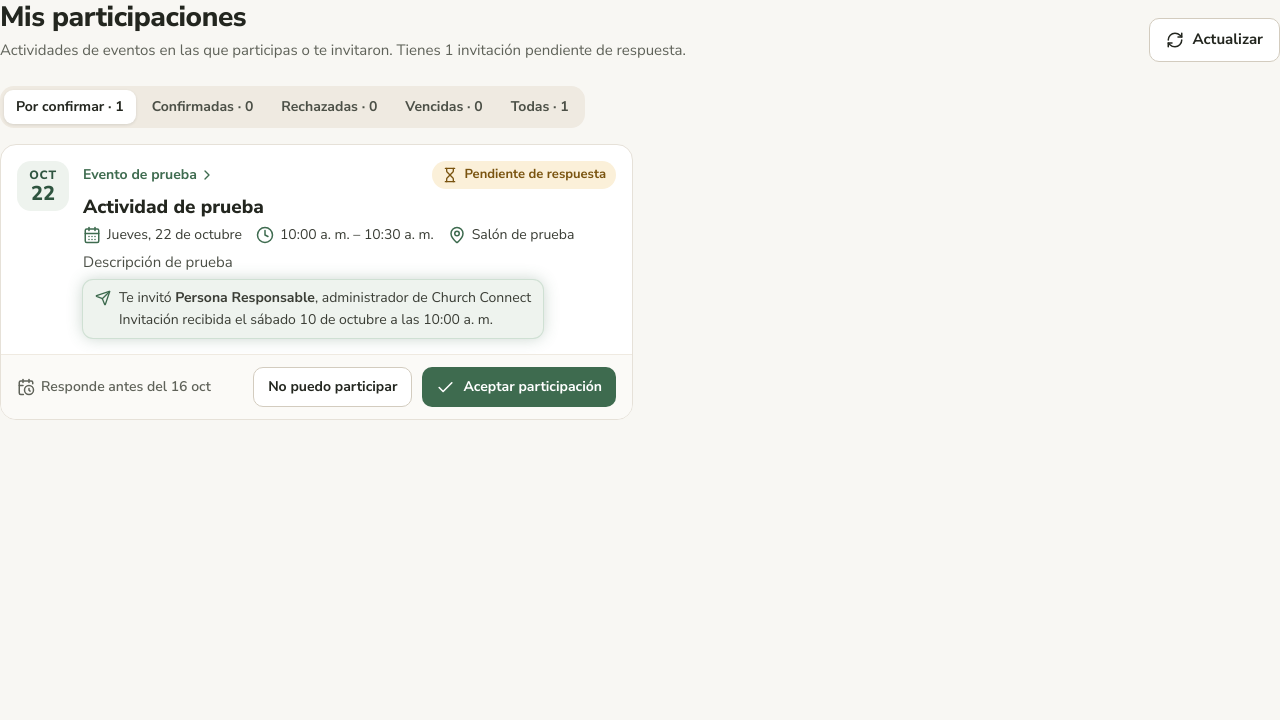
it: ParticipationsPage › el diálogo se cierra con Escape
The image size is (1280, 720).
Click the button with aria-label "Aceptar participación en": click(519, 387) [422,367,616,407]
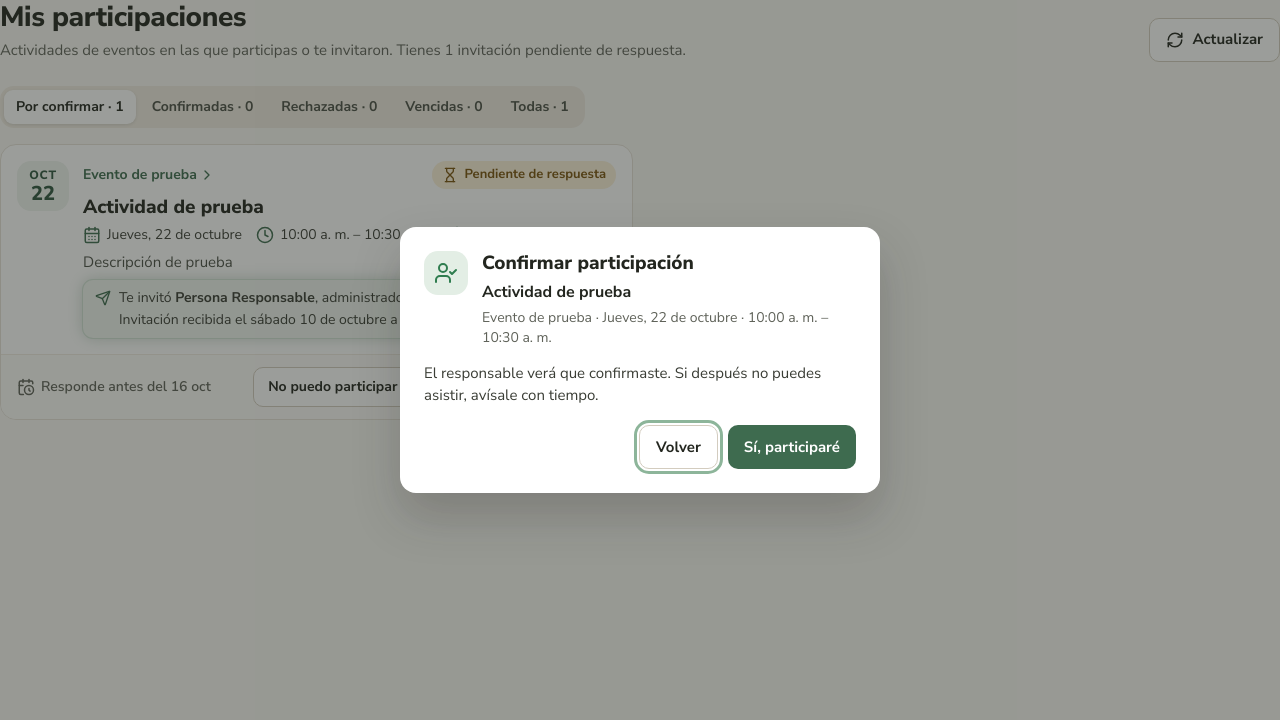
Now the dialog is shown, box [400,227,880,493]
Press Escape
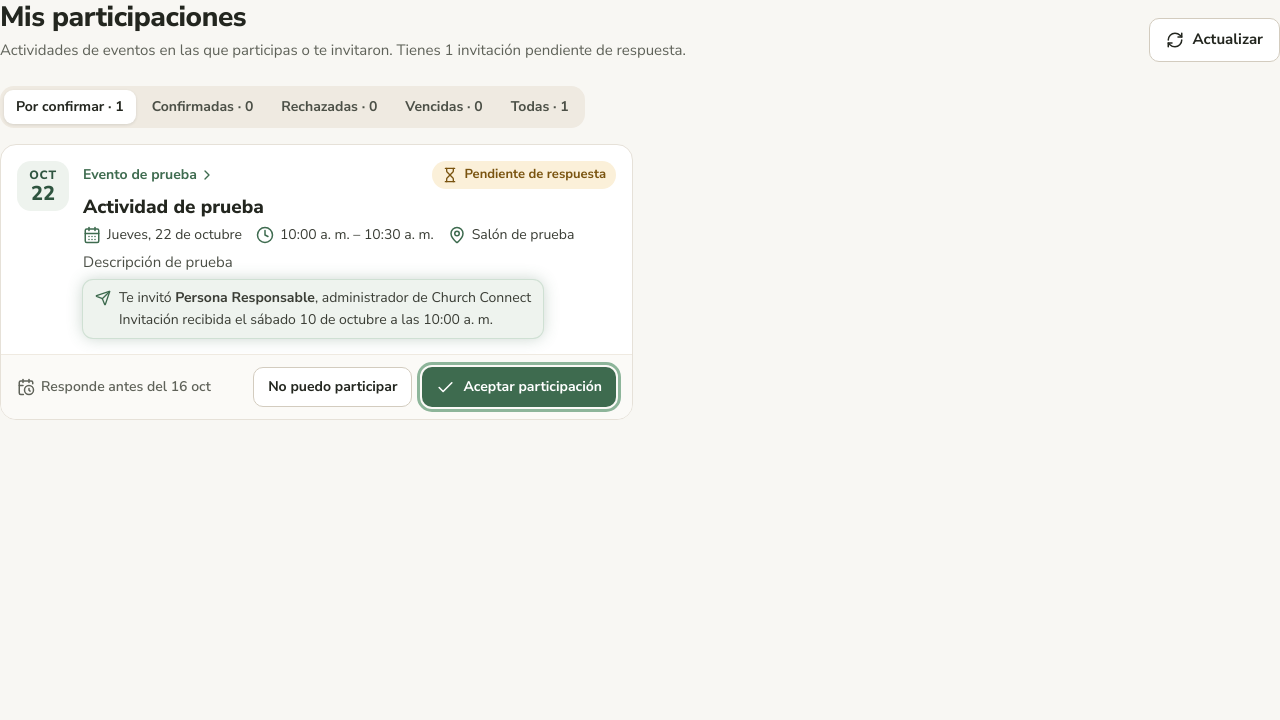
Now the dialog is gone
